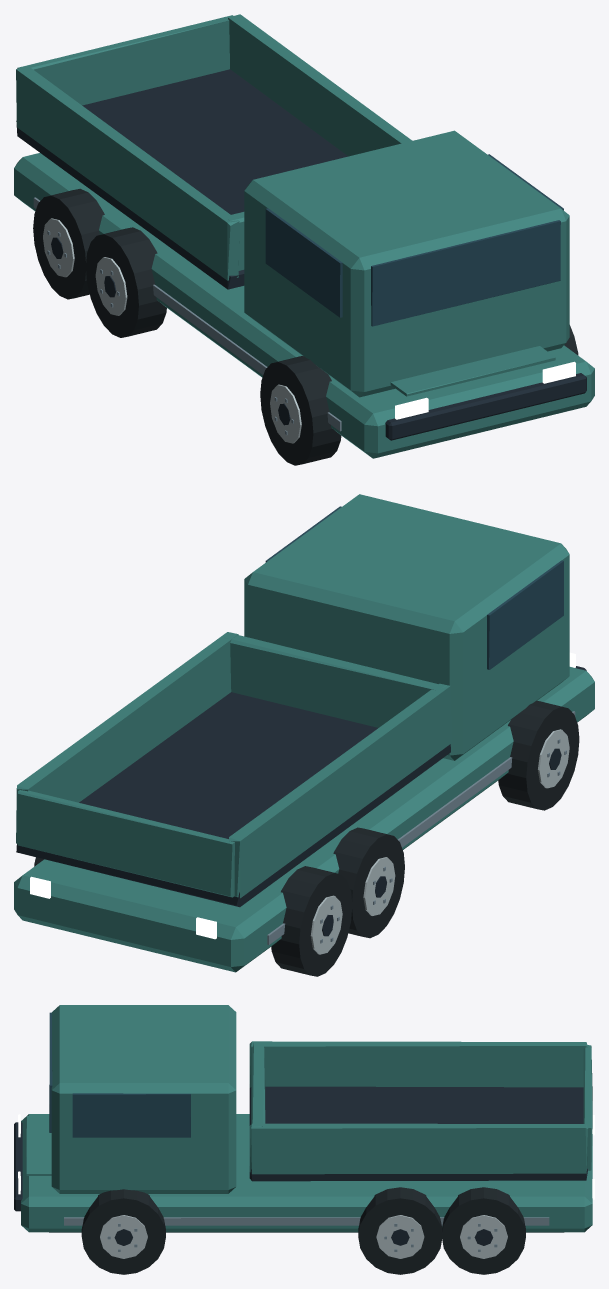
File: road-tipper.lod1.glb
The picture shows the model from 3 angles, top to bottom: view 1: azimuth 30°, elevation 25°; view 2: azimuth 150°, elevation 25°; view 3: azimuth 270°, elevation 25°; orthographic projection. The views are drawn at different scales.
Parts seen in each view (by area): view 1: road-tipper__body, road-tipper__bed, road-tipper__tailgate, road-tipper__wheel_steer_2_l, road-tipper__wheel_steer_0_l, road-tipper__wheel_steer_1_l; view 2: road-tipper__body, road-tipper__bed, road-tipper__tailgate, road-tipper__wheel_steer_1_l, road-tipper__wheel_steer_0_l, road-tipper__wheel_steer_2_l; view 3: road-tipper__body, road-tipper__bed, road-tipper__wheel_steer_2_r, road-tipper__wheel_steer_1_r, road-tipper__wheel_steer_0_r, road-tipper__tailgate.
Part boxes in pixels (bbox=[...]): road-tipper__body: bbox=[14, 130, 594, 458]; road-tipper__bed: bbox=[16, 14, 412, 289]; road-tipper__tailgate: bbox=[17, 15, 233, 105]; road-tipper__wheel_steer_2_l: bbox=[86, 227, 166, 337]; road-tipper__wheel_steer_0_l: bbox=[260, 356, 341, 465]; road-tipper__wheel_steer_1_l: bbox=[33, 188, 104, 299]; road-tipper__body: bbox=[14, 494, 594, 972]; road-tipper__bed: bbox=[16, 632, 451, 907]; road-tipper__tailgate: bbox=[17, 790, 234, 897]; road-tipper__wheel_steer_1_l: bbox=[271, 866, 352, 976]; road-tipper__wheel_steer_0_l: bbox=[498, 700, 579, 810]; road-tipper__wheel_steer_2_l: bbox=[333, 827, 404, 938]; road-tipper__body: bbox=[14, 1005, 594, 1232]; road-tipper__bed: bbox=[249, 1041, 587, 1181]; road-tipper__wheel_steer_2_r: bbox=[358, 1187, 442, 1274]; road-tipper__wheel_steer_1_r: bbox=[441, 1187, 525, 1274]; road-tipper__wheel_steer_0_r: bbox=[81, 1189, 165, 1274]; road-tipper__tailgate: bbox=[583, 1045, 592, 1170].
Bounding box in the file's own units: 2.85 × 2.25 × 6.61.
